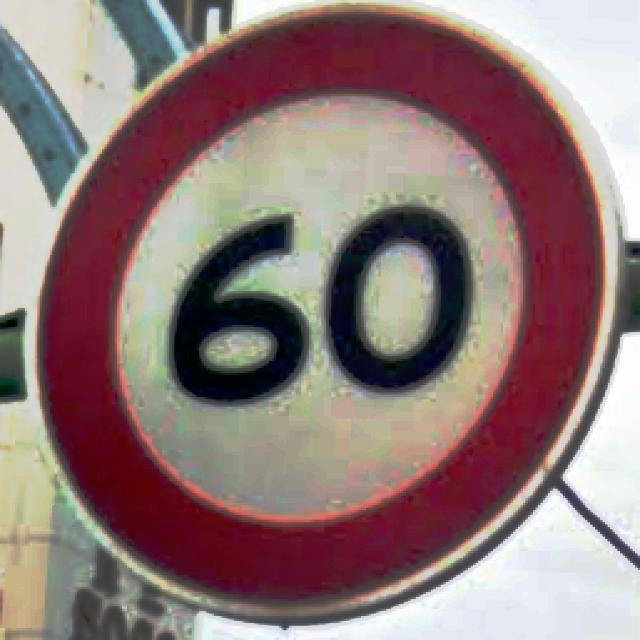max60: (30, 0, 627, 623)
